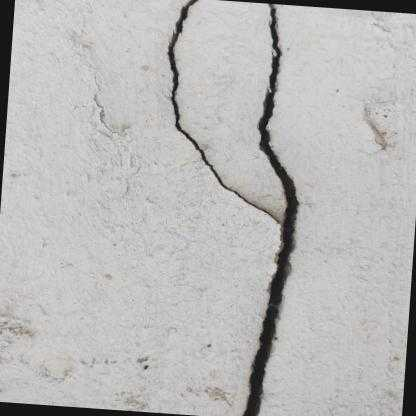crack: (164, 0, 302, 416)
